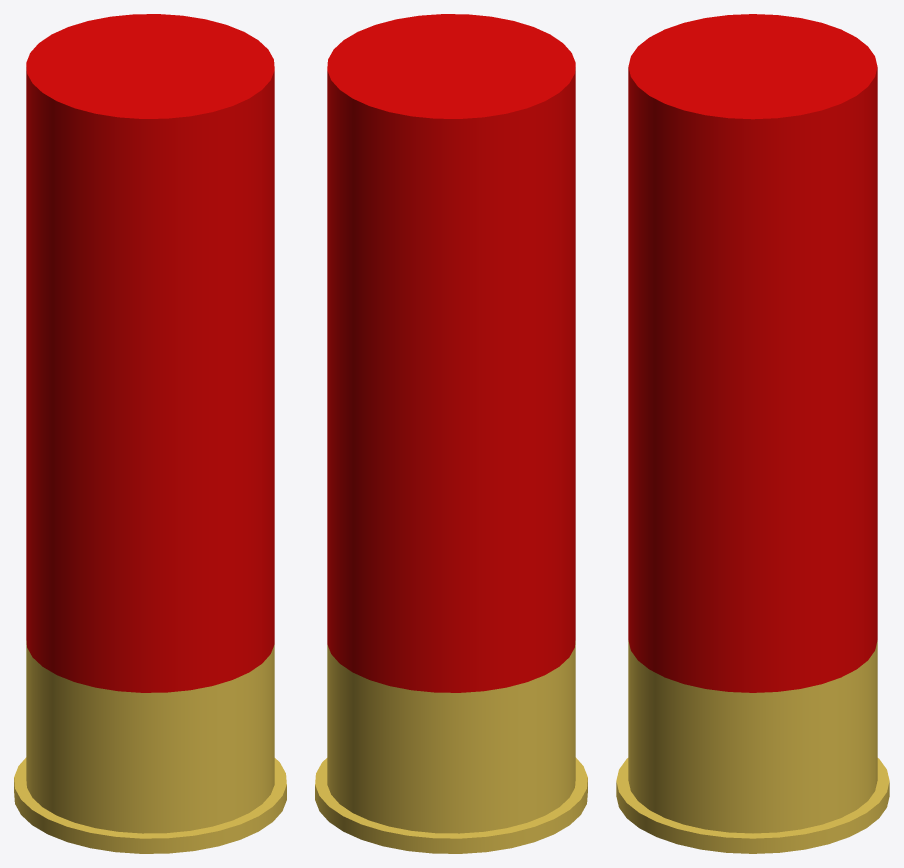
File: ShotGunAMMO.fbx
3 renders of one model, left to right at view 1: azimuth 30°, elevation 25°; view 2: azimuth 150°, elevation 25°; view 3: azimuth 270°, elevation 25°, orthographic.
Visible parts, largest first — view 1: Shotgun; view 2: Shotgun; view 3: Shotgun.
Part boxes in pixels (x1,y1,x2,y2): Shotgun: [14, 14, 286, 853]; Shotgun: [315, 14, 587, 853]; Shotgun: [616, 14, 889, 853].
Bounding box in the file's own units: 67.94 × 200 × 67.94.
